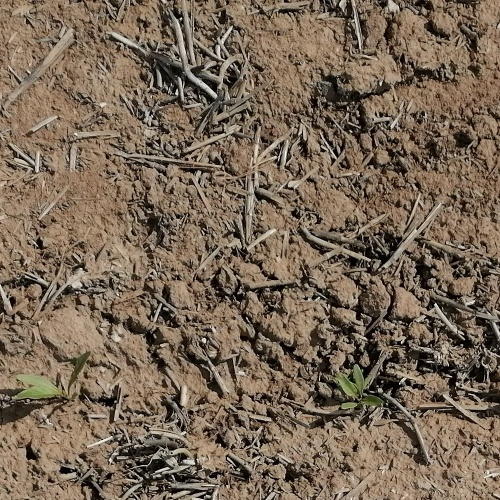beet: (10, 351, 92, 402), (335, 362, 384, 411)
